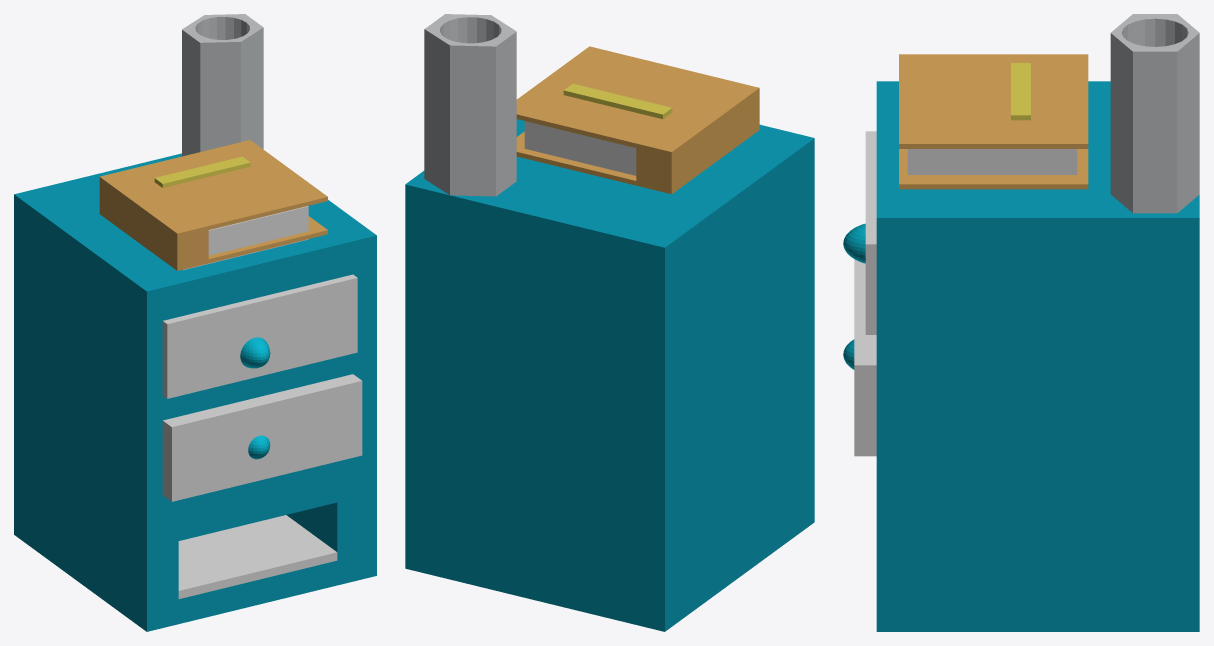
Rendered from Project 149 tinkercard.glb.
The picture shows the model from 3 angles, left to right: view 1: azimuth 30°, elevation 25°; view 2: azimuth 150°, elevation 25°; view 3: azimuth 270°, elevation 25°; orthographic projection. The views are drawn at different scales.
Visible parts, largest first — view 1: Mesh_Mesh_head_geo.001_lambert2SG.001; view 2: Mesh_Mesh_head_geo.001_lambert2SG.001; view 3: Mesh_Mesh_head_geo.001_lambert2SG.001.
Part boxes in pixels (x1,y1,x2,y2): Mesh_Mesh_head_geo.001_lambert2SG.001: [14, 14, 376, 631]; Mesh_Mesh_head_geo.001_lambert2SG.001: [405, 14, 814, 631]; Mesh_Mesh_head_geo.001_lambert2SG.001: [843, 14, 1199, 631].
Size of the model in its own units: 29 by 57 by 32.
